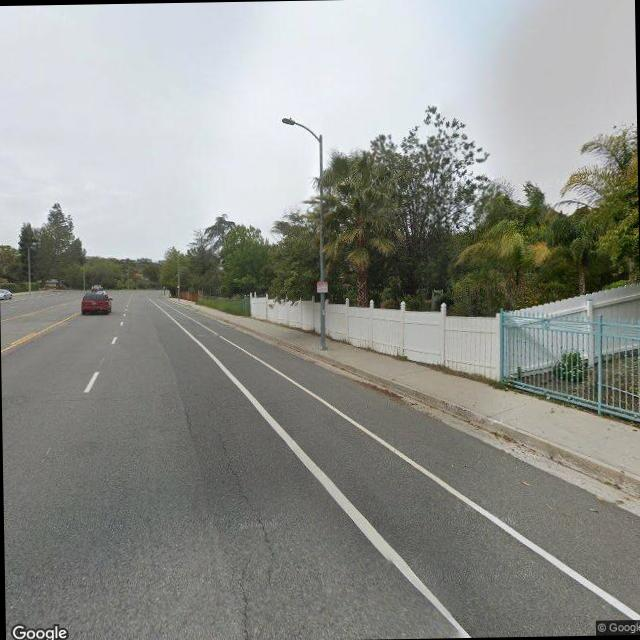crack: (208, 420, 278, 639), (180, 404, 197, 442)
